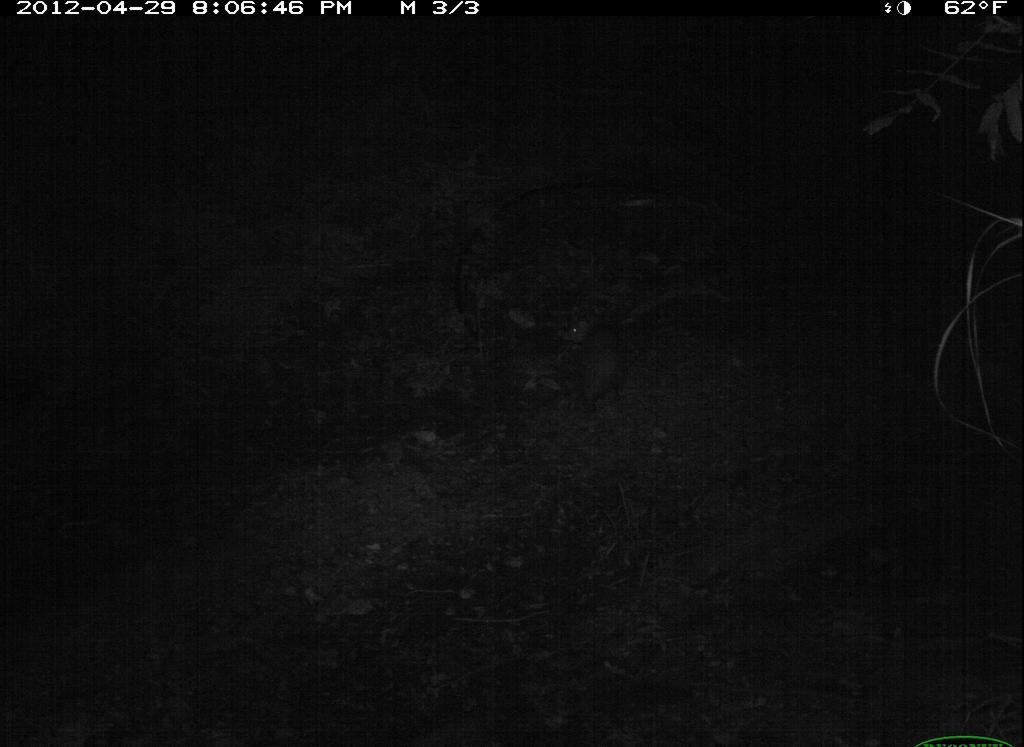opossum: (547, 290, 638, 432)
